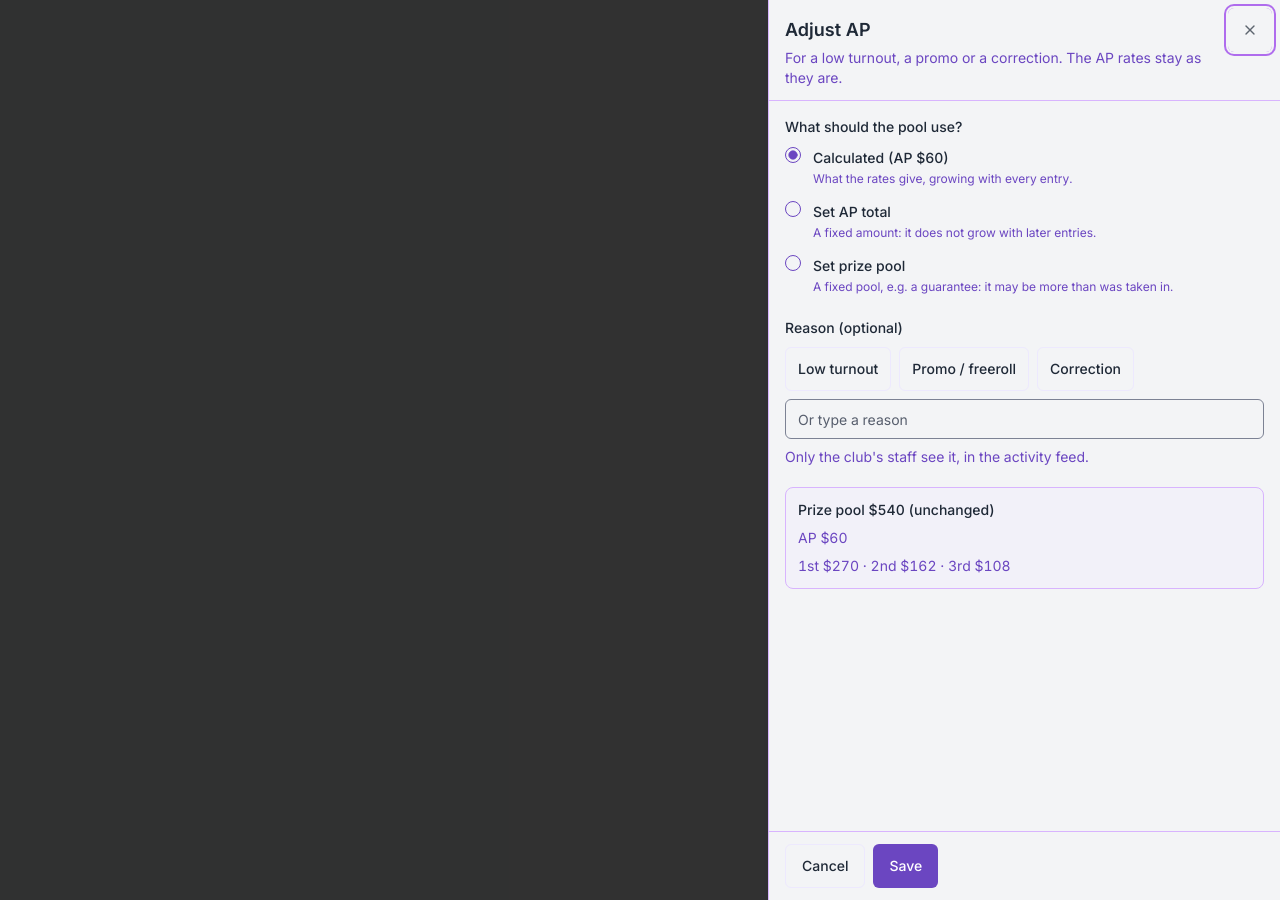
Scenario: ApAdjustDialog › waives, halves and steps the AP total by $5 in one tap
Click the radio button named "Set AP total" next to "Set AP total".
click(793, 209)  # box [785, 201, 801, 217]
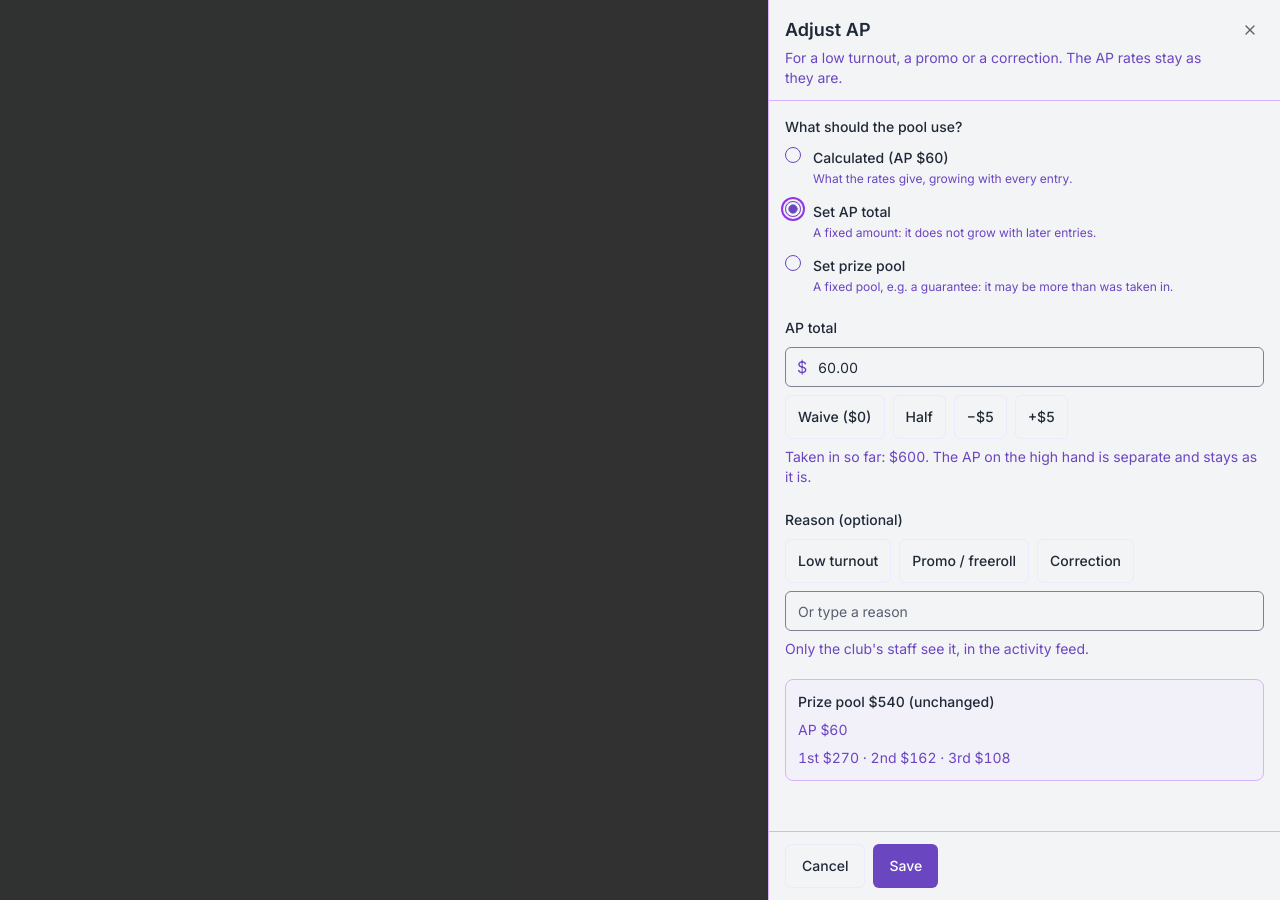
Click the button "Waive ($0)".
click(835, 417)  # box [785, 395, 885, 439]
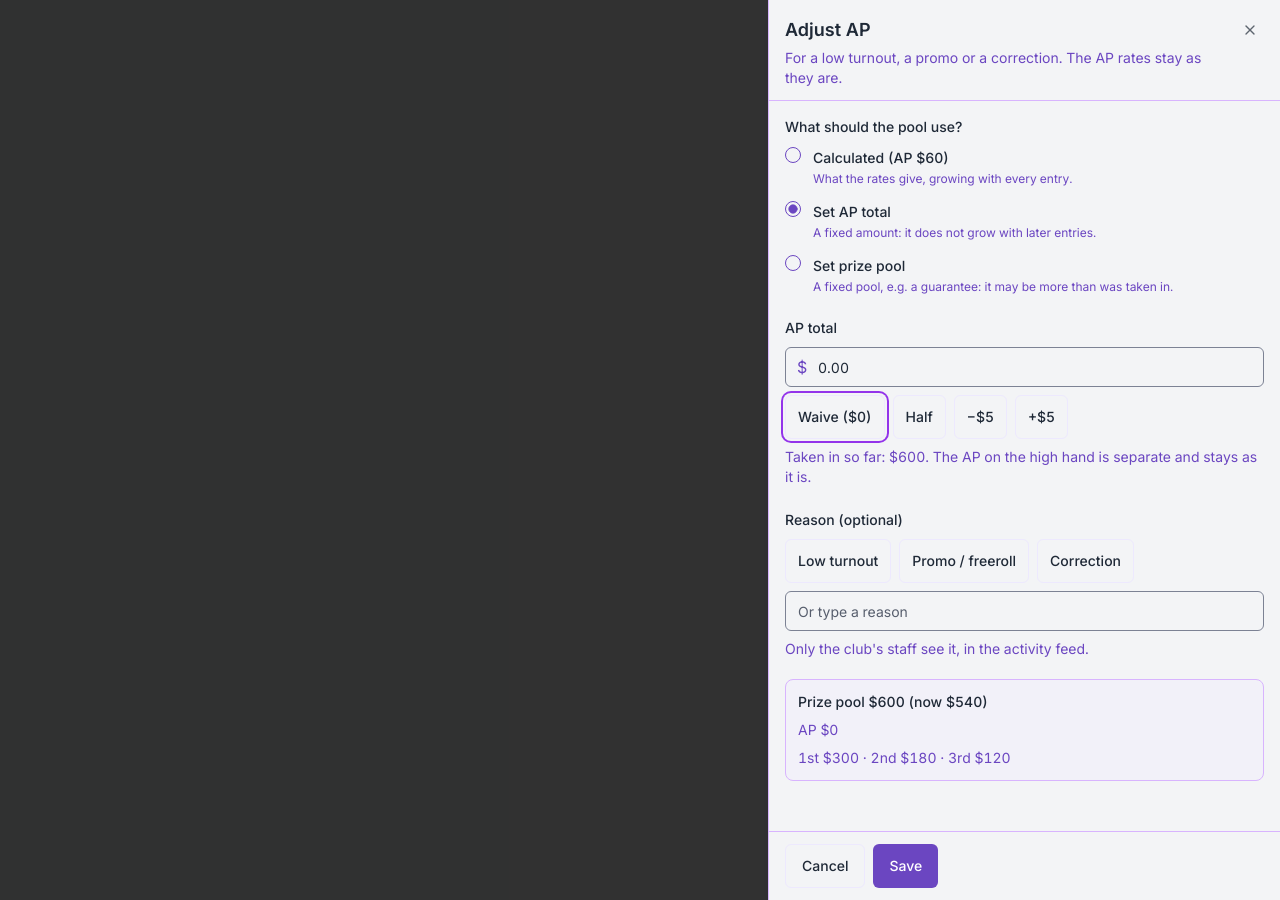
Now the field with test id "adjust-amount" holds "0.00", box [785, 347, 1264, 387]
Now the text with test id "preview-pool" reads "Prize pool $600 (now $540)", box [798, 693, 988, 710]
Click the button "Half".
click(919, 417)  # box [893, 395, 946, 439]
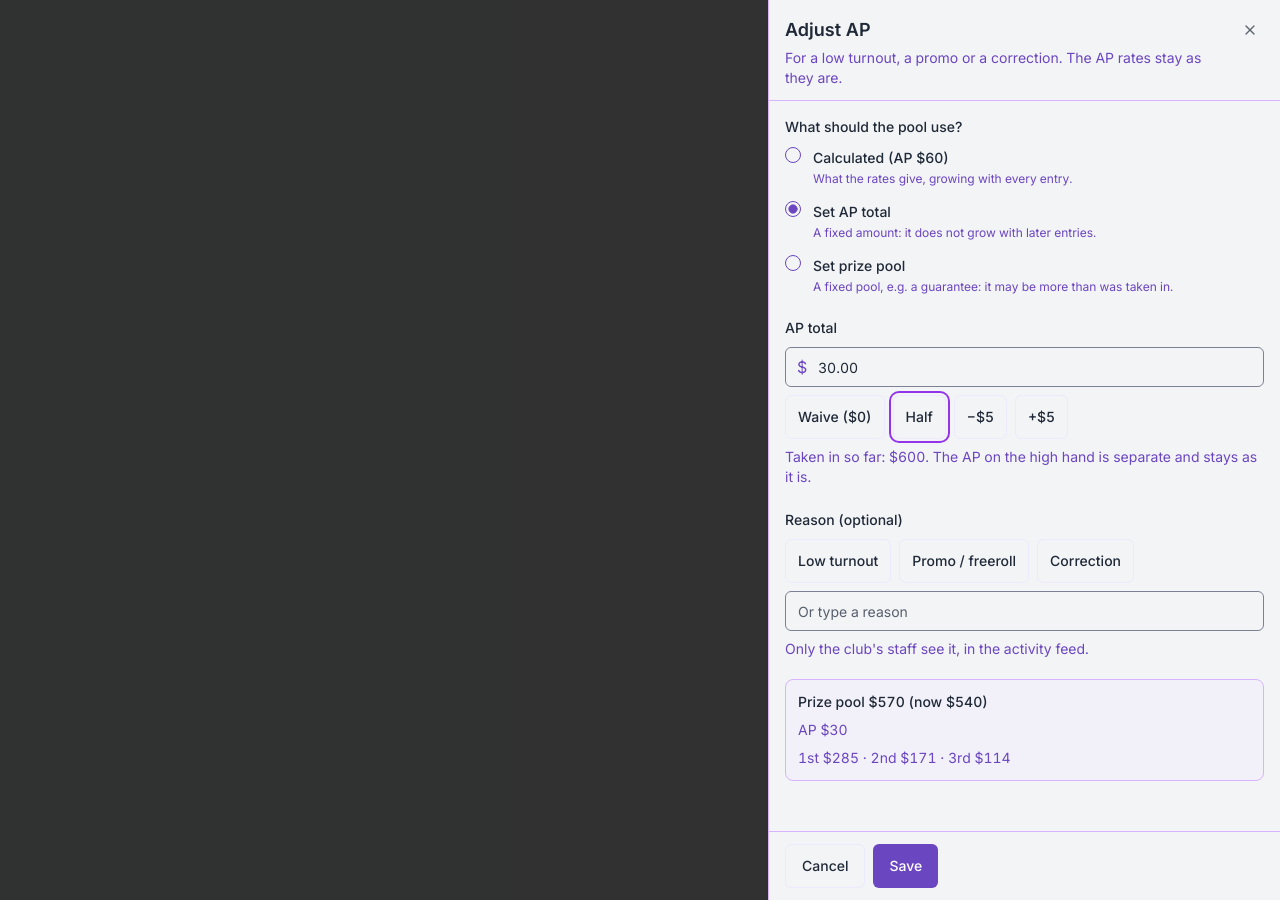
Now the field with test id "adjust-amount" holds "30.00", box [785, 347, 1264, 387]
Click the button "+$5".
click(1042, 417)  # box [1015, 395, 1068, 439]
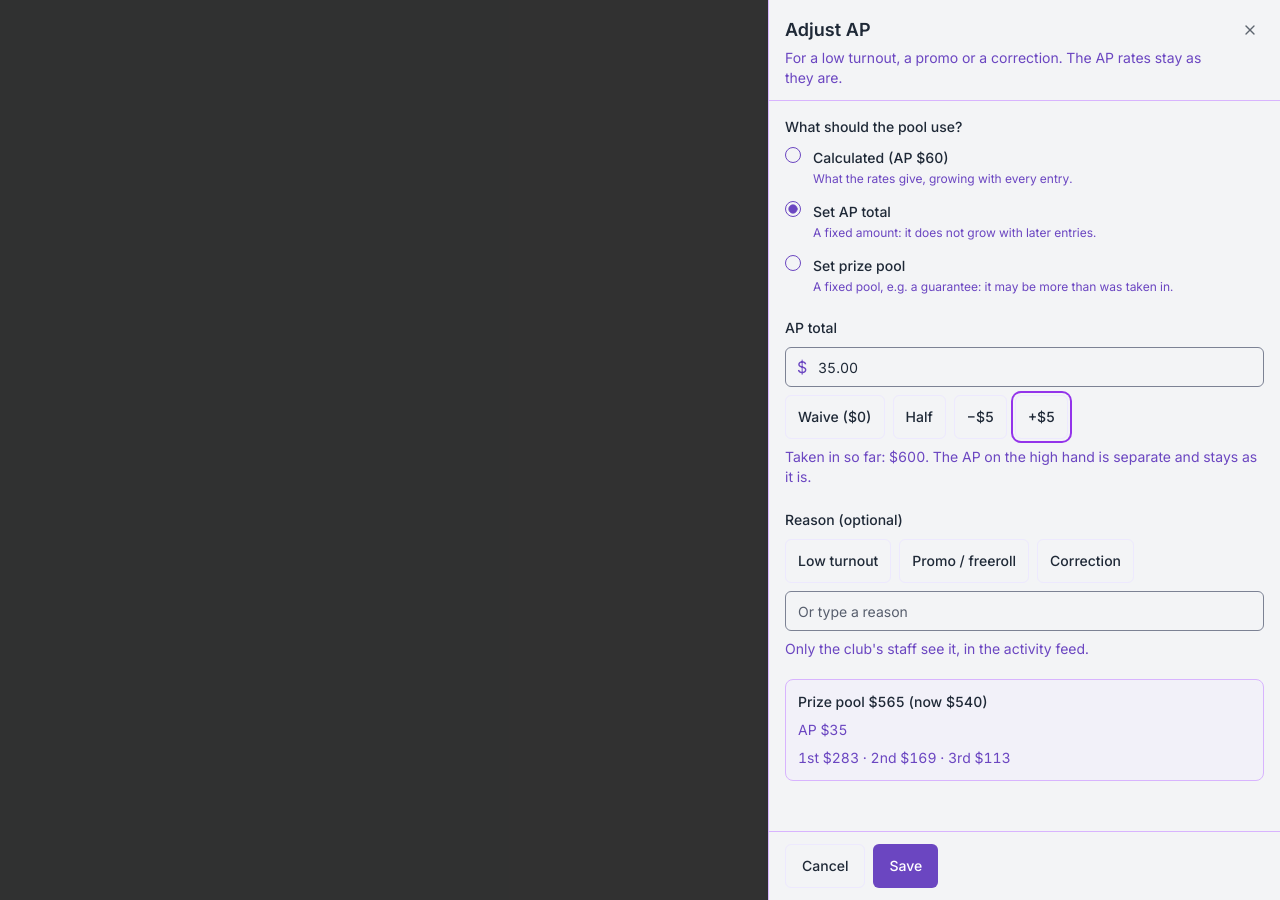
Now the field with test id "adjust-amount" holds "35.00", box [785, 347, 1264, 387]
Click the button "−$5".
click(980, 417)  # box [954, 395, 1007, 439]
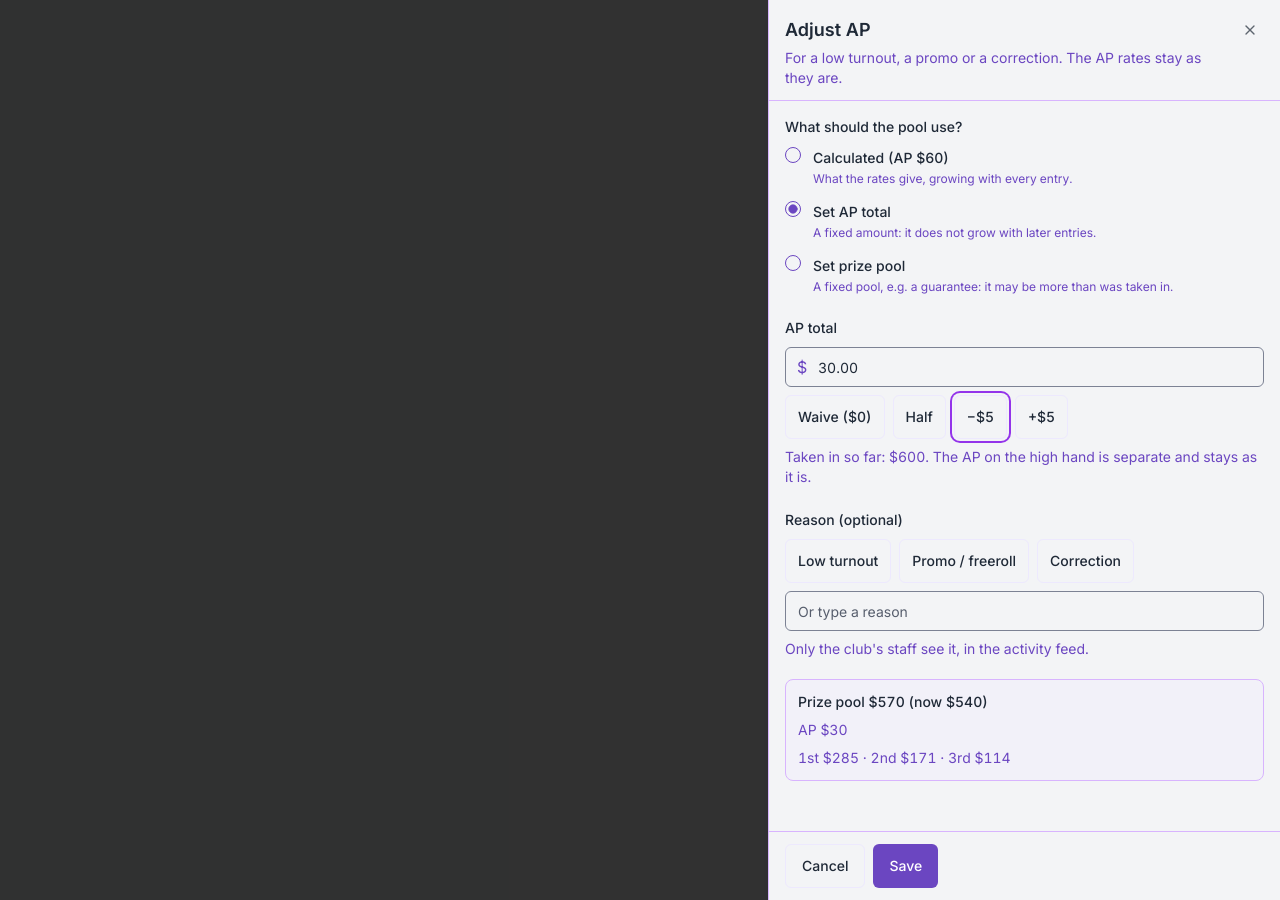
Click the button "−$5".
click(980, 417)  # box [954, 395, 1007, 439]
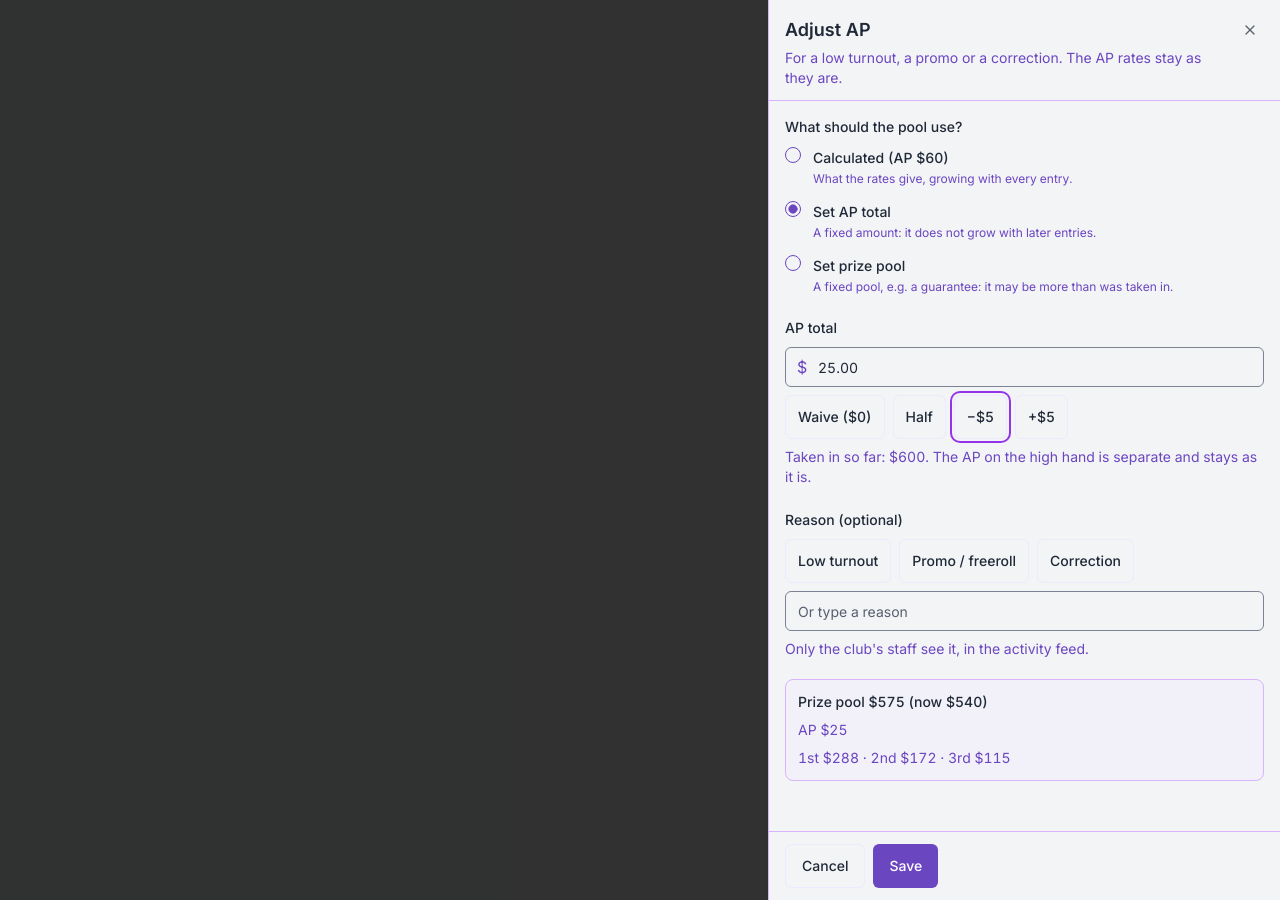
Now the field with test id "adjust-amount" holds "25.00", box [785, 347, 1264, 387]
